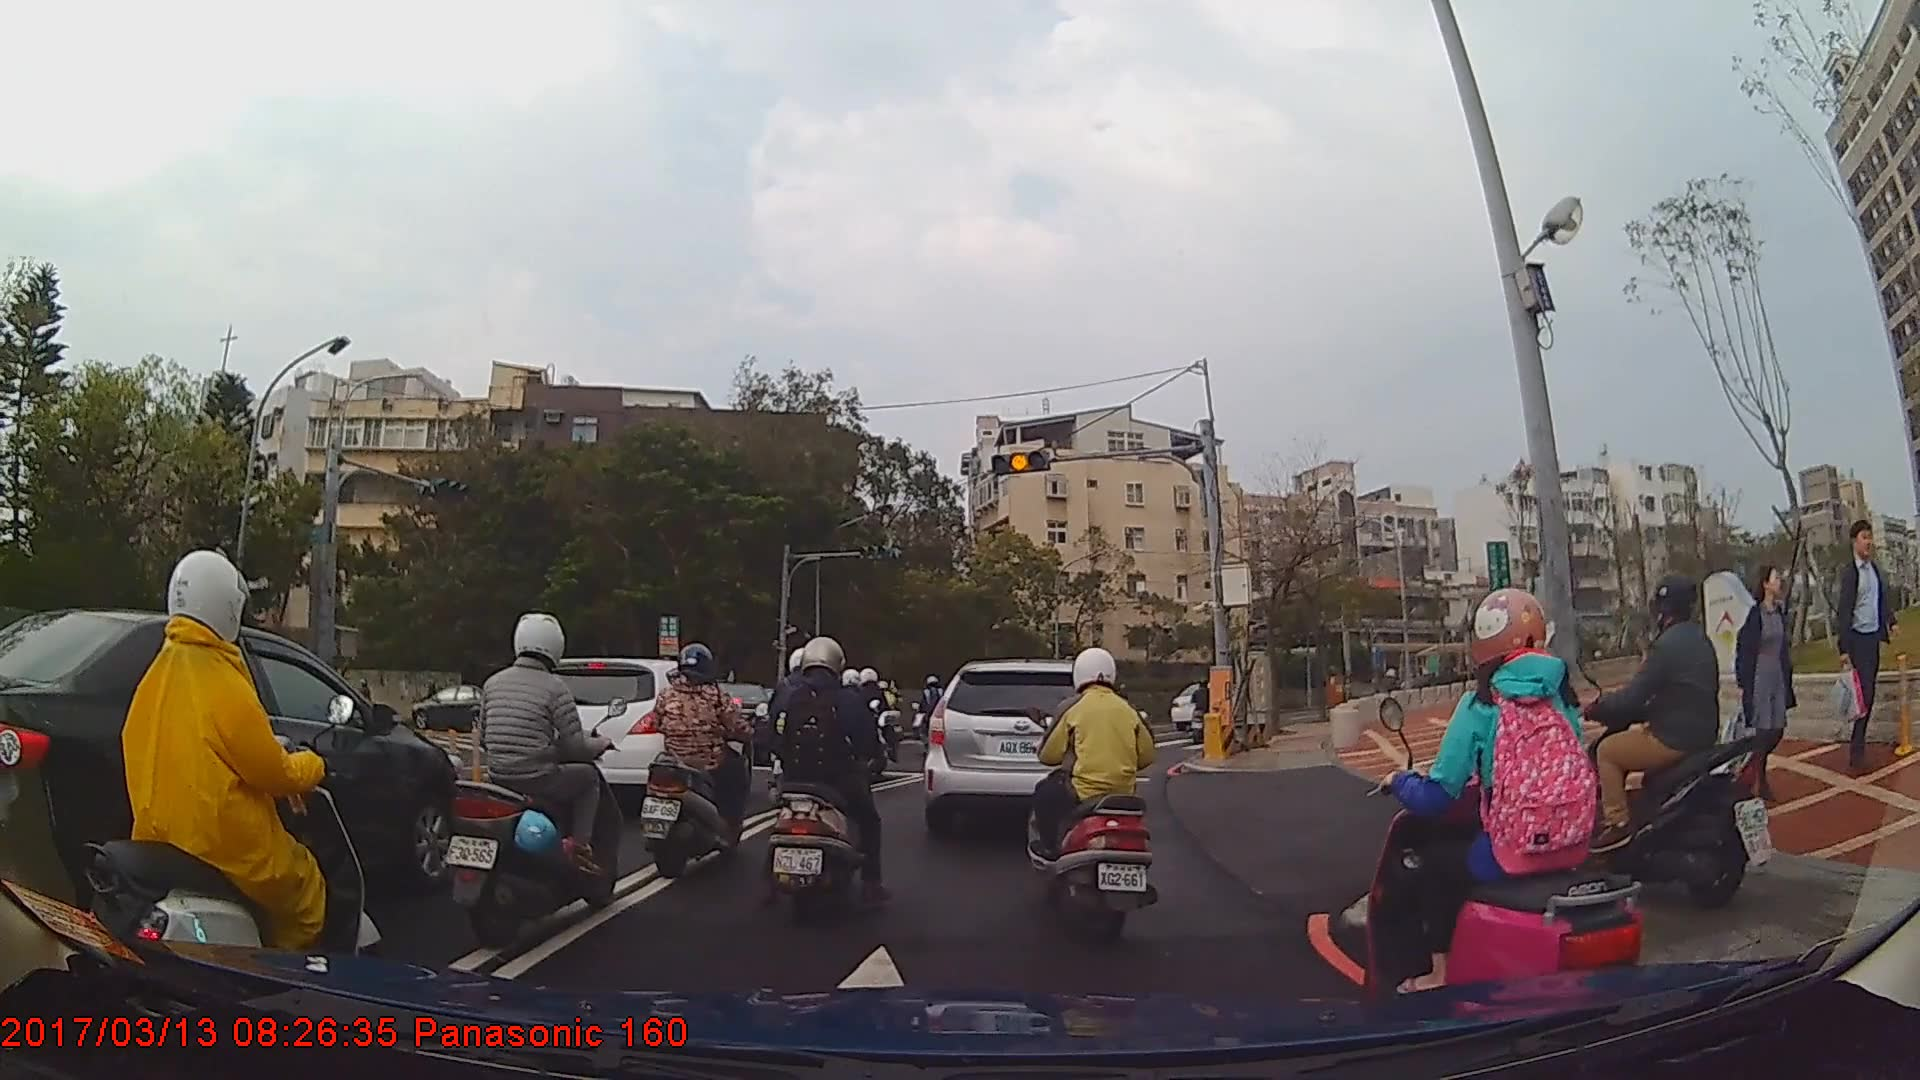pedestrian: (1734, 565, 1801, 802), (1832, 520, 1894, 777)
rider: (82, 545, 385, 1009), (1362, 591, 1637, 1024), (1562, 578, 1749, 906), (448, 607, 619, 952), (1022, 647, 1159, 941), (764, 636, 894, 929), (635, 642, 761, 878), (1189, 678, 1220, 742)
vehicle: (0, 606, 462, 934), (518, 657, 753, 817), (916, 659, 1126, 836), (410, 683, 512, 731)
